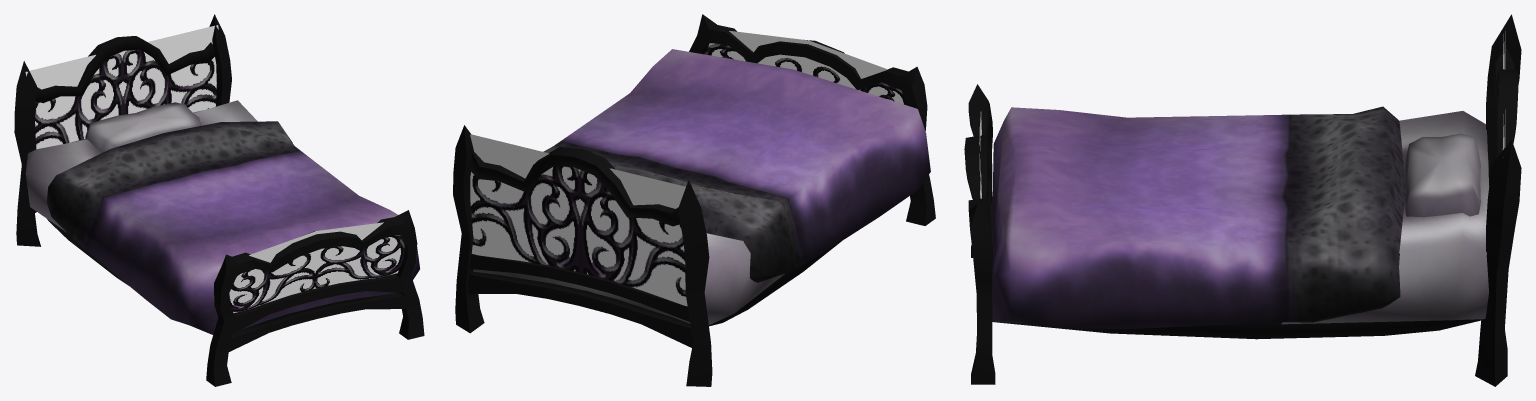
Rendered from BaroqueBed_HD.fbx.
3 renders of one model, left to right at view 1: azimuth 30°, elevation 25°; view 2: azimuth 150°, elevation 25°; view 3: azimuth 270°, elevation 25°, orthographic. The views are drawn at different scales.
Visible parts, largest first — view 1: BaroqueBed; view 2: BaroqueBed; view 3: BaroqueBed.
Boxes of the visible parts, x1,y1,x2,y2 form: BaroqueBed: [14, 14, 424, 386]; BaroqueBed: [453, 14, 935, 386]; BaroqueBed: [964, 14, 1521, 386].
Size of the model in its own units: 1.3 by 0.9184 by 1.94.
